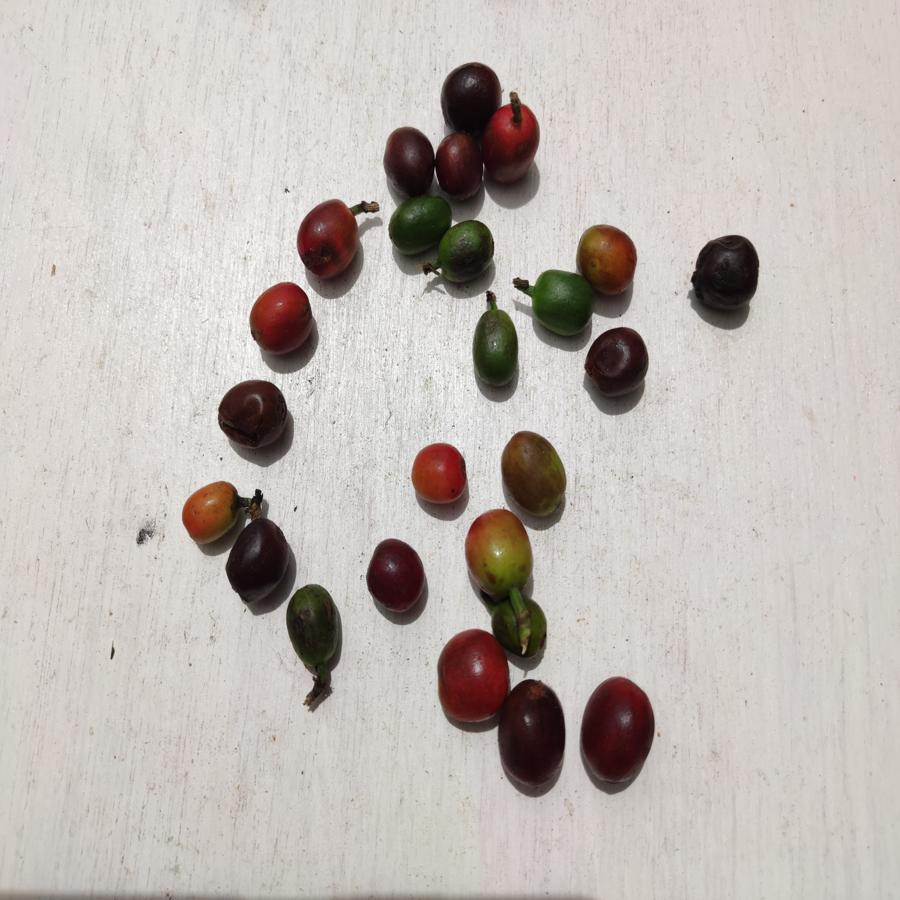Inmaduro: (283, 585, 344, 675), (470, 303, 527, 391), (529, 270, 587, 351), (435, 219, 496, 284), (389, 198, 450, 261), (494, 603, 555, 655)
Maduro: (431, 623, 507, 730), (242, 278, 317, 355), (298, 197, 359, 284), (490, 97, 540, 191)
Pinton: (501, 426, 572, 523), (464, 503, 535, 595), (402, 441, 474, 515), (580, 222, 646, 300), (181, 480, 237, 549)
Sobremaduro: (579, 675, 659, 783), (500, 679, 564, 783), (690, 233, 761, 314), (213, 379, 293, 448), (227, 517, 283, 610), (582, 327, 652, 401), (366, 536, 429, 615), (382, 120, 433, 193), (443, 62, 493, 133), (435, 131, 485, 200)
